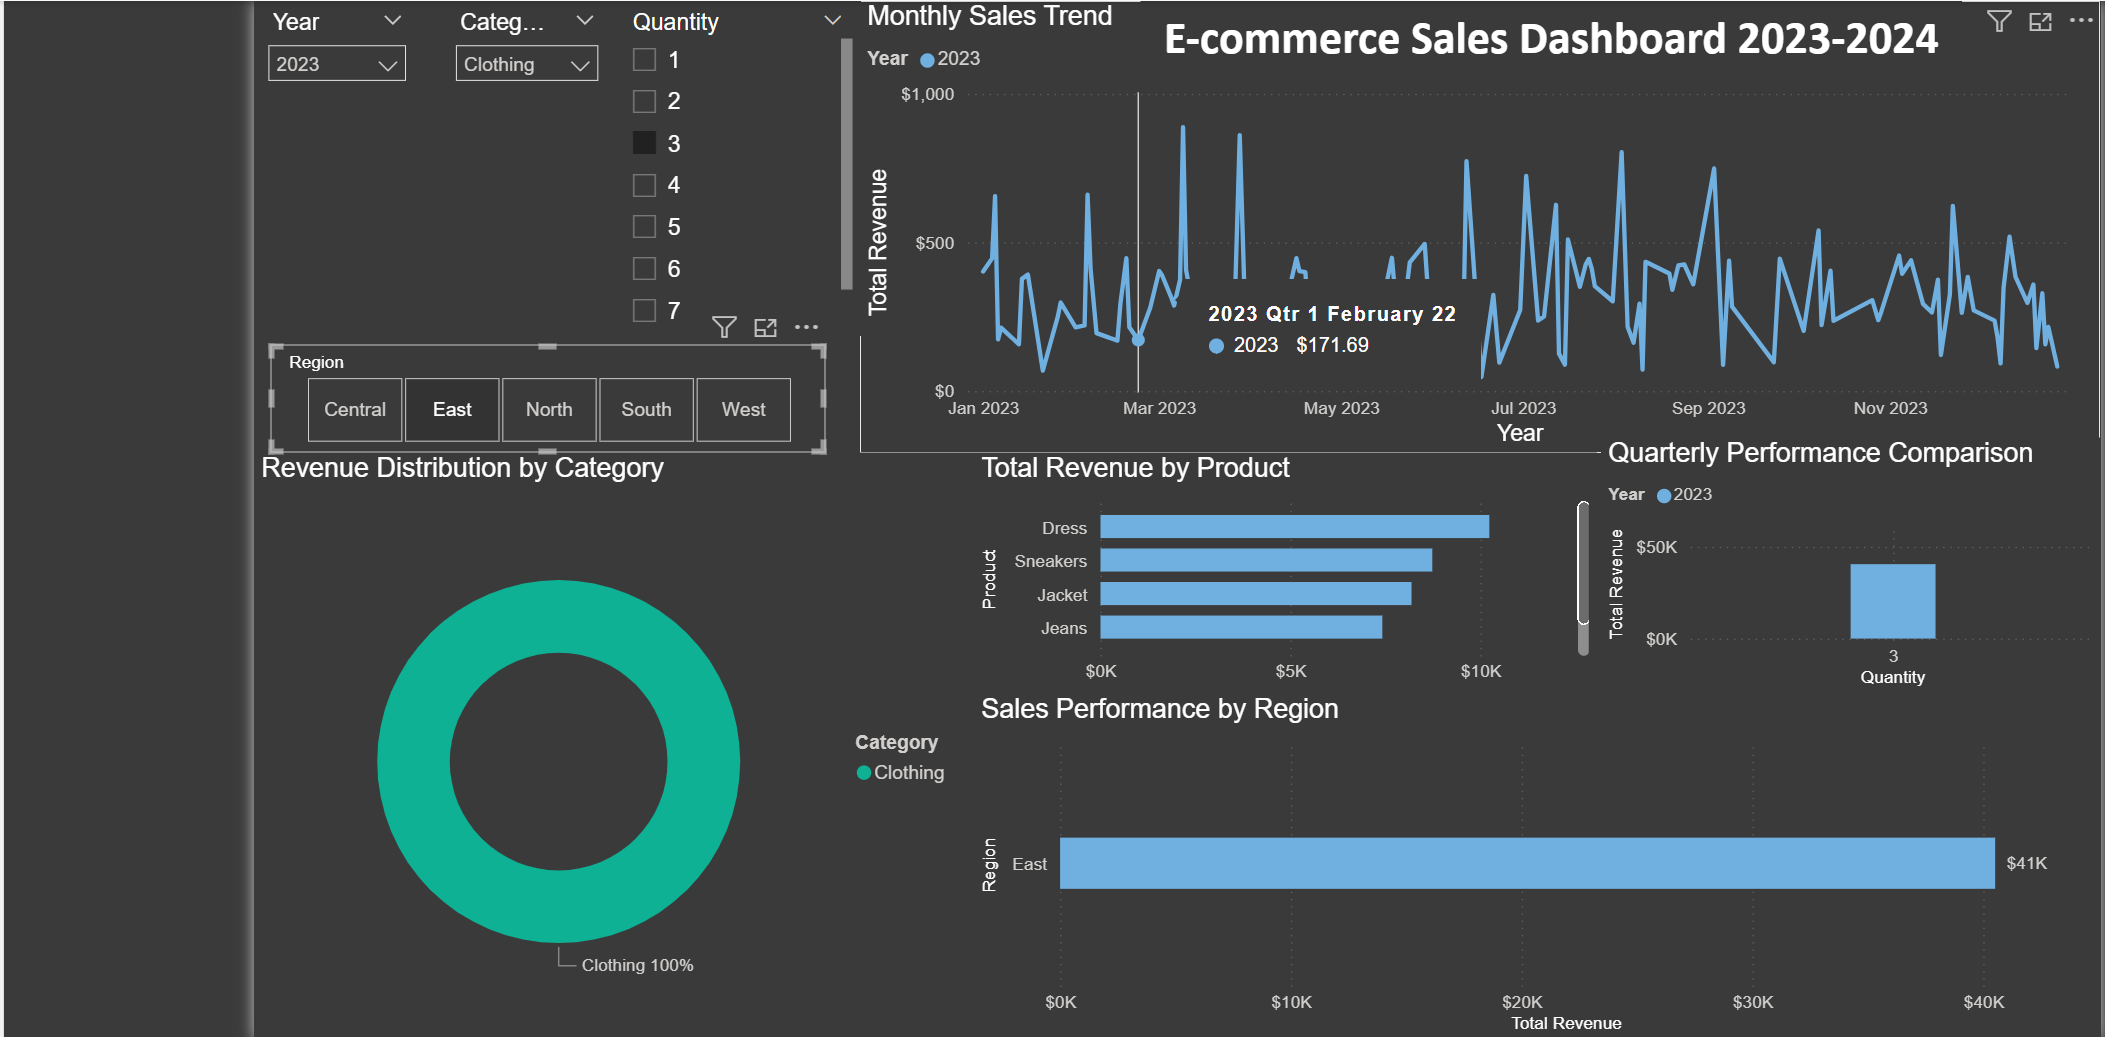

Layout of this report page (visuals, bound fields, positions):
{"tool":"powerbi","page":{"name":"Overview Dashboard","canvas":[1280,720],"ordinal":0},"visuals":[{"type":"lineChart","title":"Monthly Sales Trend","fields":{"Category":["Sales_Table.Date.Variation.Date Hierarchy.Year","Sales_Table.Date.Variation.Date Hierarchy.Quarter","Sales_Table.Date.Variation.Date Hierarchy.Month","Sales_Table.Date.Variation.Date Hierarchy.Day"],"Y":["Sales_Table.Total Revenue"],"Series":["Sales_Table.Year"]},"box":[419.6,0,860.4,312.9],"z":0},{"type":"donutChart","title":"Revenue Distribution by Category","fields":{"Y":["Sales_Table.Total Revenue"],"Category":["Sales_Table.Category"]},"box":[0,312.8,498.7,407],"z":1000},{"type":"clusteredBarChart","title":"Sales Performance by Region","fields":{"Y":["Sales_Table.Total Revenue"],"Category":["Sales_Table.Region"]},"box":[498.7,480.3,781.3,239.5],"z":2000},{"type":"clusteredBarChart","fields":{"Category":["Sales_Table.Product"],"Y":["Sales_Table.Total Revenue"]},"box":[498.7,312.8,431.2,167.5],"z":3000},{"type":"clusteredColumnChart","title":"Quarterly Performance Comparison","fields":{"Y":["Sales_Table.Total Revenue"],"Category":["Sales_Table.Quantity"],"Series":["Sales_Table.Year"]},"box":[933.2,303,346.8,177.3],"z":4000},{"type":"slicer","fields":{"Values":["Sales_Table.Year"]},"box":[0,0,115.3,179.2],"z":5000},{"type":"slicer","fields":{"Values":["Sales_Table.Category"]},"box":[130.4,0,118.6,231.9],"z":6000},{"type":"slicer","fields":{"Values":["Sales_Table.Quantity"]},"box":[249,0,170.6,231.9],"z":7000},{"type":"slicer","fields":{"Values":["Sales_Table.Region"]},"box":[11.2,238.5,384.7,74.4],"z":8000},{"type":"textbox","box":[614.3,0,569.6,57.2],"z":8001}]}

Visuals, with their boxes on the page's 1280x720 design canvas (x1, y1, x2, y2). These are canvas units, not pixel positions in the 2105x1037 screenshot, which may show the page scaled, cropped or inside an application window:
"Monthly Sales Trend" lineChart: BBox(420, 0, 1280, 313)
"Revenue Distribution by Category" donutChart: BBox(0, 313, 499, 720)
"Sales Performance by Region" clusteredBarChart: BBox(499, 480, 1280, 720)
clusteredBarChart - Sales_Table.Product x Sales_Table.Total Revenue: BBox(499, 313, 930, 480)
"Quarterly Performance Comparison" clusteredColumnChart: BBox(933, 303, 1280, 480)
slicer - Sales_Table.Year: BBox(0, 0, 115, 179)
slicer - Sales_Table.Category: BBox(130, 0, 249, 232)
slicer - Sales_Table.Quantity: BBox(249, 0, 420, 232)
slicer - Sales_Table.Region: BBox(11, 238, 396, 313)
textbox: BBox(614, 0, 1184, 57)
